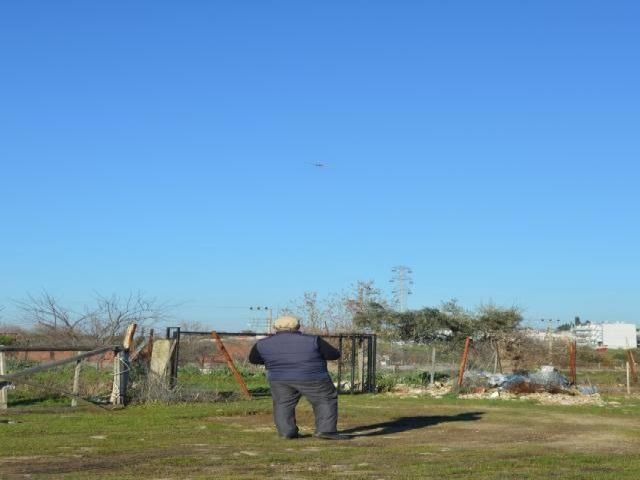iha: (303, 162, 339, 167)
